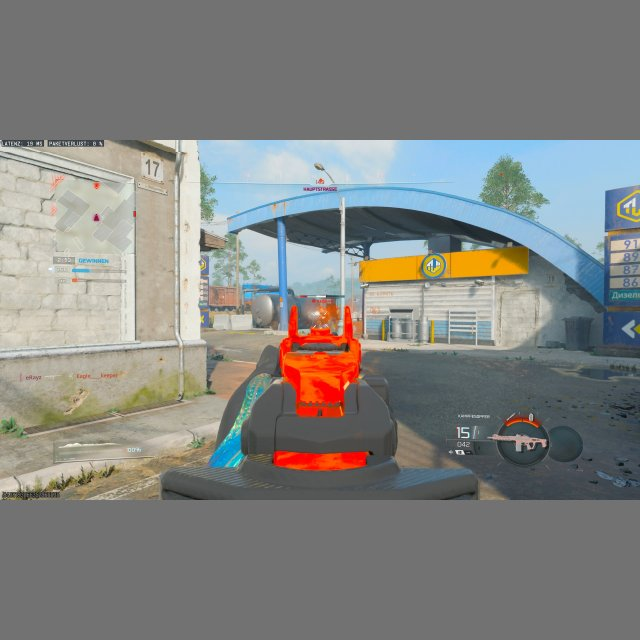player: (311, 306, 330, 329)
